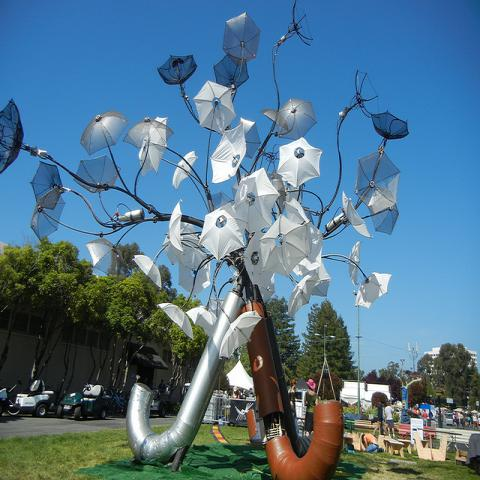car: (57, 385, 110, 419)
